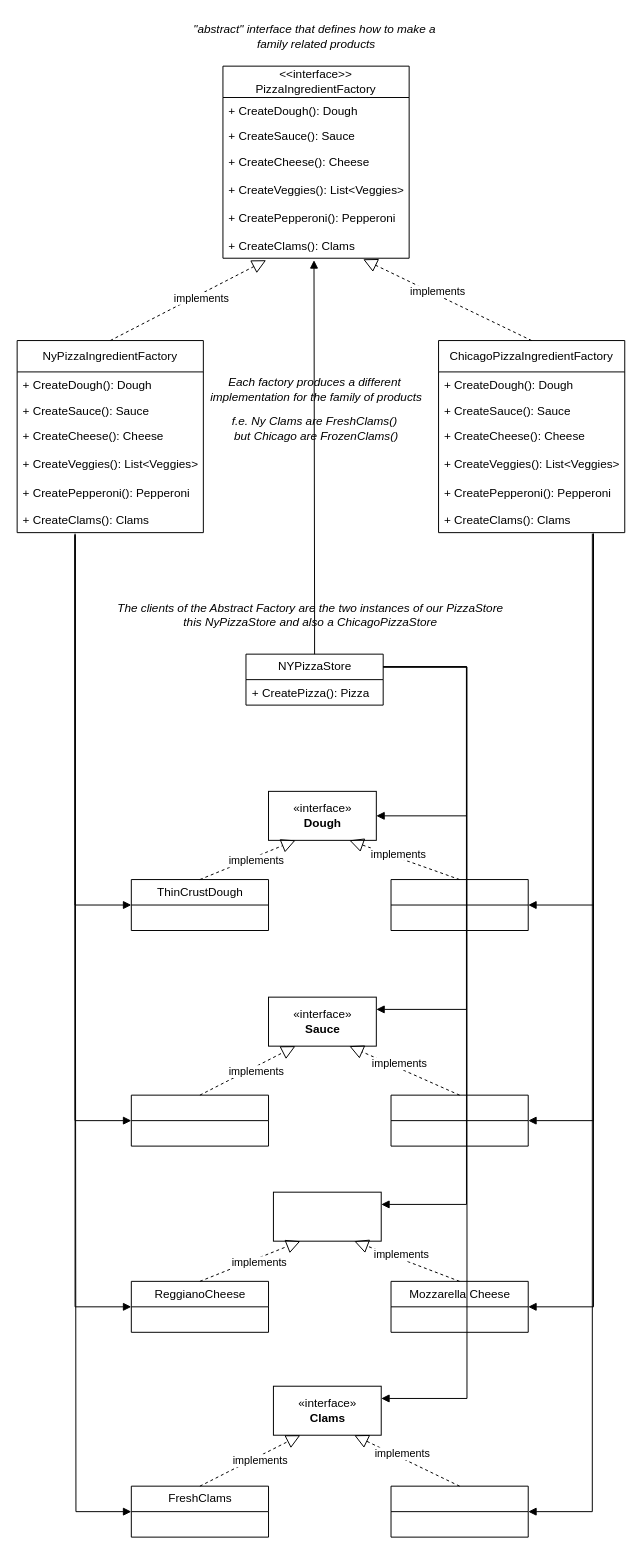
Some shapes in this 642 by 1554 pixel diagram are drawn without their labels. The centre of each missing label's shape, as x and y in pixels:
FrozenClams: the point at 459,1511
MarinaraSauce: the point at 199,1120
PlumTomatoSauce: the point at 459,1120
ThickCrustDough: the point at 459,905
«interface» Cheese: the point at 326,1216
